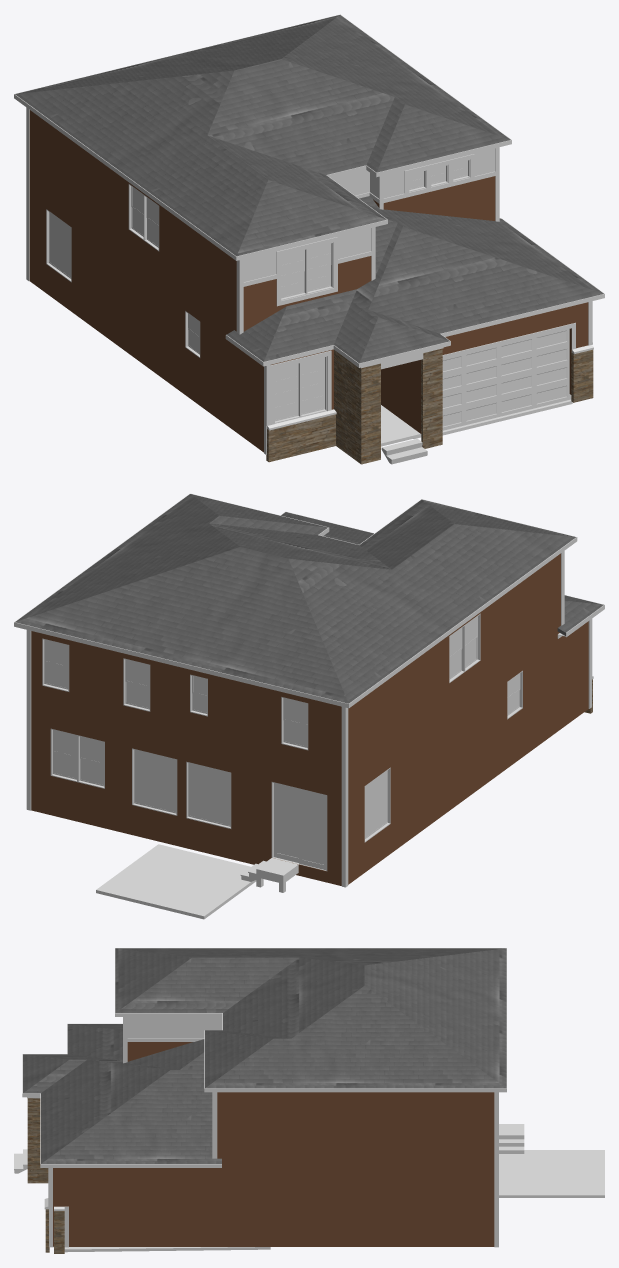
File: 235-2402-dm-prairie.glb
3 views of the same model, one above another, from view 1: azimuth 30°, elevation 25°; view 2: azimuth 150°, elevation 25°; view 3: azimuth 270°, elevation 25° (orthographic). The views are drawn at different scales.
Visible parts, largest first — view 1: Basic Roof Wood Rafter 4" - Asphalt Shingle - Insulated_d5ec, Basic Roof Wood Rafter 4" - Asphalt Shingle - Insulated_9d6c, Basic Wall BSB Exterior - Stud_5.5" - Sheathing_0.5" - _2ea2, Basic Wall BSB Exterior - Stud_5.5" - Sheathing_0.5" - _fd29, Traditional - BSB Exterior - Overhead Garage Door - Clo_7500, Basic Roof Wood Rafter 4" - Asphalt Shingle - Insulated_72df, Fascia Fascia-Flat 1x6 w/12" Soffit Bd [4288404], Basic Wall BSB Exterior - Stud_3.5" - Sheathing_0.5" - _344d, Basic Wall BSB Exterior - Brick_5.5" [4262140], Basic Wall BSB Exterior - Stud_5.5" - Sheathing_0.5" - _b32b, Corner Trim2 Corner Trim [4275916], Basic Wall BSB Exterior - Stud_5.5" - Sheathing_0.5" - _a328 (+28 smaller); view 2: Basic Roof Wood Rafter 4" - Asphalt Shingle - Insulated_d5ec, Basic Wall BSB Exterior - Stud_5.5" - Sheathing_0.5" - _0a3f, Basic Wall BSB Exterior - Stud_5.5" - Sheathing_0.5" - _2ea2, Basic Wall BSB Exterior - Stud_5.5" - Sheathing_0.5" - _6c98, Basic Wall BSB Exterior - Stud_5.5" - Sheathing_0.5" - _fd29, Floor BSB Concrete Slab - 4" - Slope Option [4644632], BSB Exterior - SGD XO - 1-Lite 6080 [4116363], Fascia Fascia-Flat 1x6 w/12" Soffit Bd [4288404], Corner Trim2 Corner Trim [4275916], BSB Fixed 5060 FX w/ Sill [4116586], BSB Fixed 5060 FX w/ Sill [4644468], Basic Wall BSB Exterior - Stud_5.5" - Sheathing_0.5" - _80d3 (+15 smaller); view 3: Basic Roof Wood Rafter 4" - Asphalt Shingle - Insulated_d5ec, Basic Roof Wood Rafter 4" - Asphalt Shingle - Insulated_9d6c, Basic Wall BSB Exterior - Stud_5.5" - Sheathing_0.5" - _8768, Basic Wall BSB Exterior - Stud_5.5" - Sheathing_0.5" - _fd77, Basic Wall BSB Exterior - Stud_3.5" - Sheathing_0.5" - _3799, Basic Wall BSB Exterior - Stud_5.5" - Sheathing_0.5" - _e479, Basic Wall BSB Exterior - Stud_3.5" - Sheathing_0.5" - _2780, Floor BSB Concrete Slab - 4" - Slope Option [4644632], Basic Wall BSB Exterior - Stud_5.5" - Sheathing_0.5" - _bf46, Basic Wall BSB Exterior - Stud_5.5" - Sheathing_0.5" - _7014, Fascia Fascia-Flat 1x6 w/12" Soffit Bd [4288404], Basic Roof Wood Rafter 4" - Asphalt Shingle - Insulated_72df (+14 smaller).
Part boxes in pixels (x1=…): Basic Roof Wood Rafter 4" - Asphalt Shingle - Insulated_d5ec: x1=15, y1=15, x2=510, y2=256; Basic Roof Wood Rafter 4" - Asphalt Shingle - Insulated_9d6c: x1=334, y1=205, x2=603, y2=363; Basic Wall BSB Exterior - Stud_5.5" - Sheathing_0.5" - _2ea2: x1=29, y1=187, x2=246, y2=439; Basic Wall BSB Exterior - Stud_5.5" - Sheathing_0.5" - _fd29: x1=29, y1=110, x2=217, y2=323; Traditional - BSB Exterior - Overhead Garage Door - Clo_7500: x1=442, y1=329, x2=570, y2=430; Basic Roof Wood Rafter 4" - Asphalt Shingle - Insulated_72df: x1=226, y1=289, x2=356, y2=361; Fascia Fascia-Flat 1x6 w/12" Soffit Bd [4288404]: x1=14, y1=14, x2=511, y2=260; Basic Wall BSB Exterior - Stud_3.5" - Sheathing_0.5" - _344d: x1=442, y1=302, x2=588, y2=394; Basic Wall BSB Exterior - Brick_5.5" [4262140]: x1=334, y1=350, x2=365, y2=464; Basic Wall BSB Exterior - Stud_5.5" - Sheathing_0.5" - _b32b: x1=385, y1=176, x2=495, y2=220; Corner Trim2 Corner Trim [4275916]: x1=26, y1=107, x2=592, y2=454; Basic Wall BSB Exterior - Stud_5.5" - Sheathing_0.5" - _a328: x1=243, y1=256, x2=371, y2=331; Basic Roof Wood Rafter 4" - Asphalt Shingle - Insulated_d5ec: x1=15, y1=494, x2=575, y2=703; Basic Wall BSB Exterior - Stud_5.5" - Sheathing_0.5" - _0a3f: x1=31, y1=631, x2=341, y2=788; Basic Wall BSB Exterior - Stud_5.5" - Sheathing_0.5" - _2ea2: x1=348, y1=635, x2=569, y2=884; Basic Wall BSB Exterior - Stud_5.5" - Sheathing_0.5" - _6c98: x1=31, y1=713, x2=341, y2=885; Basic Wall BSB Exterior - Stud_5.5" - Sheathing_0.5" - _fd29: x1=348, y1=569, x2=540, y2=787; Floor BSB Concrete Slab - 4" - Slope Option [4644632]: x1=96, y1=844, x2=256, y2=919; BSB Exterior - SGD XO - 1-Lite 6080 [4116363]: x1=271, y1=782, x2=327, y2=871; Fascia Fascia-Flat 1x6 w/12" Soffit Bd [4288404]: x1=14, y1=493, x2=577, y2=708; Corner Trim2 Corner Trim [4275916]: x1=26, y1=551, x2=592, y2=887; BSB Fixed 5060 FX w/ Sill [4116586]: x1=132, y1=748, x2=177, y2=815; BSB Fixed 5060 FX w/ Sill [4644468]: x1=186, y1=761, x2=231, y2=828; Basic Wall BSB Exterior - Stud_5.5" - Sheathing_0.5" - _80d3: x1=540, y1=554, x2=560, y2=646; Basic Roof Wood Rafter 4" - Asphalt Shingle - Insulated_d5ec: x1=115, y1=948, x2=506, y2=1088; Basic Roof Wood Rafter 4" - Asphalt Shingle - Insulated_9d6c: x1=23, y1=1052, x2=221, y2=1163; Basic Wall BSB Exterior - Stud_5.5" - Sheathing_0.5" - _8768: x1=275, y1=1163, x2=494, y2=1246; Basic Wall BSB Exterior - Stud_5.5" - Sheathing_0.5" - _fd77: x1=360, y1=1092, x2=494, y2=1163; Basic Wall BSB Exterior - Stud_3.5" - Sheathing_0.5" - _3799: x1=136, y1=1163, x2=236, y2=1246; Basic Wall BSB Exterior - Stud_5.5" - Sheathing_0.5" - _e479: x1=285, y1=1092, x2=360, y2=1163; Basic Wall BSB Exterior - Stud_3.5" - Sheathing_0.5" - _2780: x1=67, y1=1168, x2=136, y2=1246; Floor BSB Concrete Slab - 4" - Slope Option [4644632]: x1=499, y1=1150, x2=604, y2=1197; Basic Wall BSB Exterior - Stud_5.5" - Sheathing_0.5" - _bf46: x1=237, y1=1163, x2=275, y2=1246; Basic Wall BSB Exterior - Stud_5.5" - Sheathing_0.5" - _7014: x1=241, y1=1092, x2=284, y2=1163; Fascia Fascia-Flat 1x6 w/12" Soffit Bd [4288404]: x1=115, y1=948, x2=506, y2=1092; Basic Roof Wood Rafter 4" - Asphalt Shingle - Insulated_72df: x1=67, y1=1024, x2=122, y2=1060.
Size of the model in its own units: 11.32 by 9.61 by 20.12.
3 materials, 2 textured.
